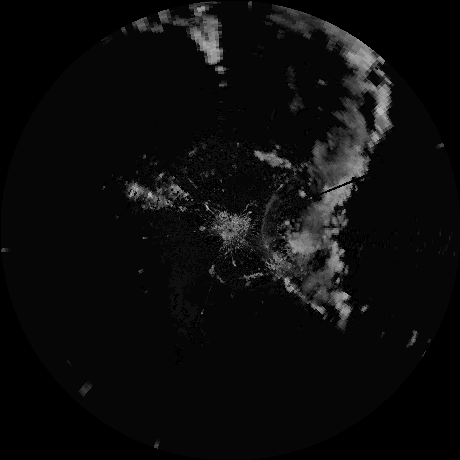frontgust: (260, 183, 285, 253)
